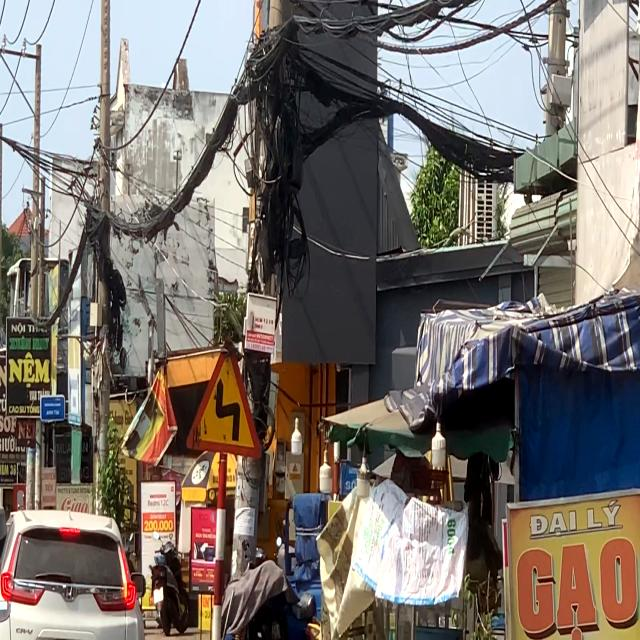W.202a: (179, 331, 266, 464)
